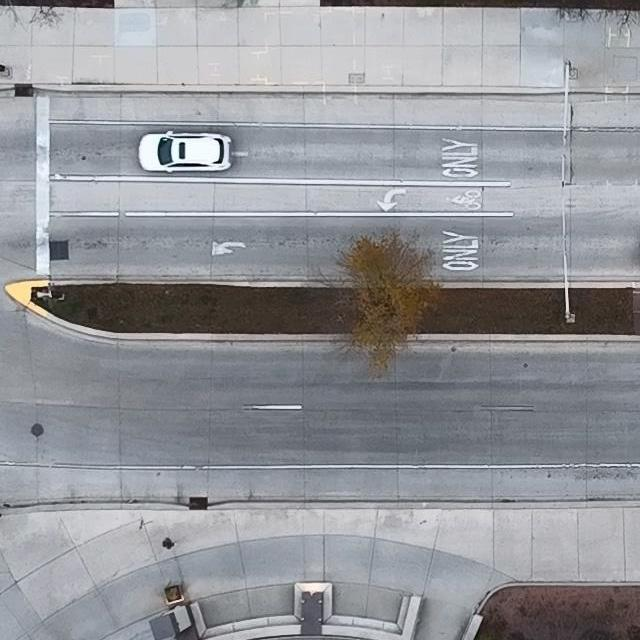car: (138, 129, 232, 173)
